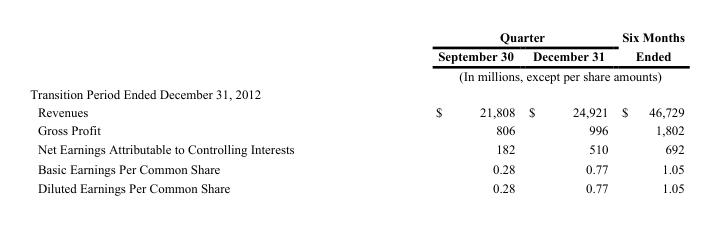table: (29, 29, 683, 194)
table column: (29, 29, 364, 194), (364, 29, 521, 194), (521, 29, 614, 194), (614, 29, 683, 194)
table column header: (29, 29, 683, 84)
table projected row header: (29, 84, 683, 102)
table row: (29, 158, 683, 178), (29, 46, 683, 65), (29, 65, 683, 84), (29, 120, 683, 139), (29, 139, 683, 158), (29, 84, 683, 102), (29, 102, 683, 120), (29, 29, 683, 46), (29, 178, 683, 194)
table spanning cell: (364, 65, 683, 84), (364, 29, 614, 46), (614, 29, 683, 65)
